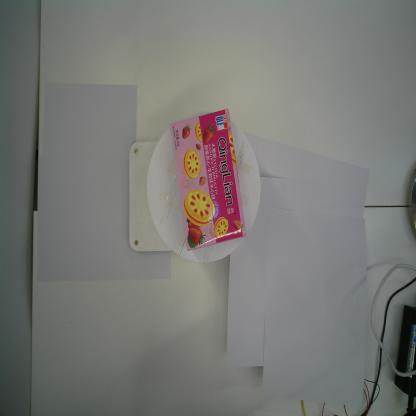Dessert: (170, 108, 246, 253)
